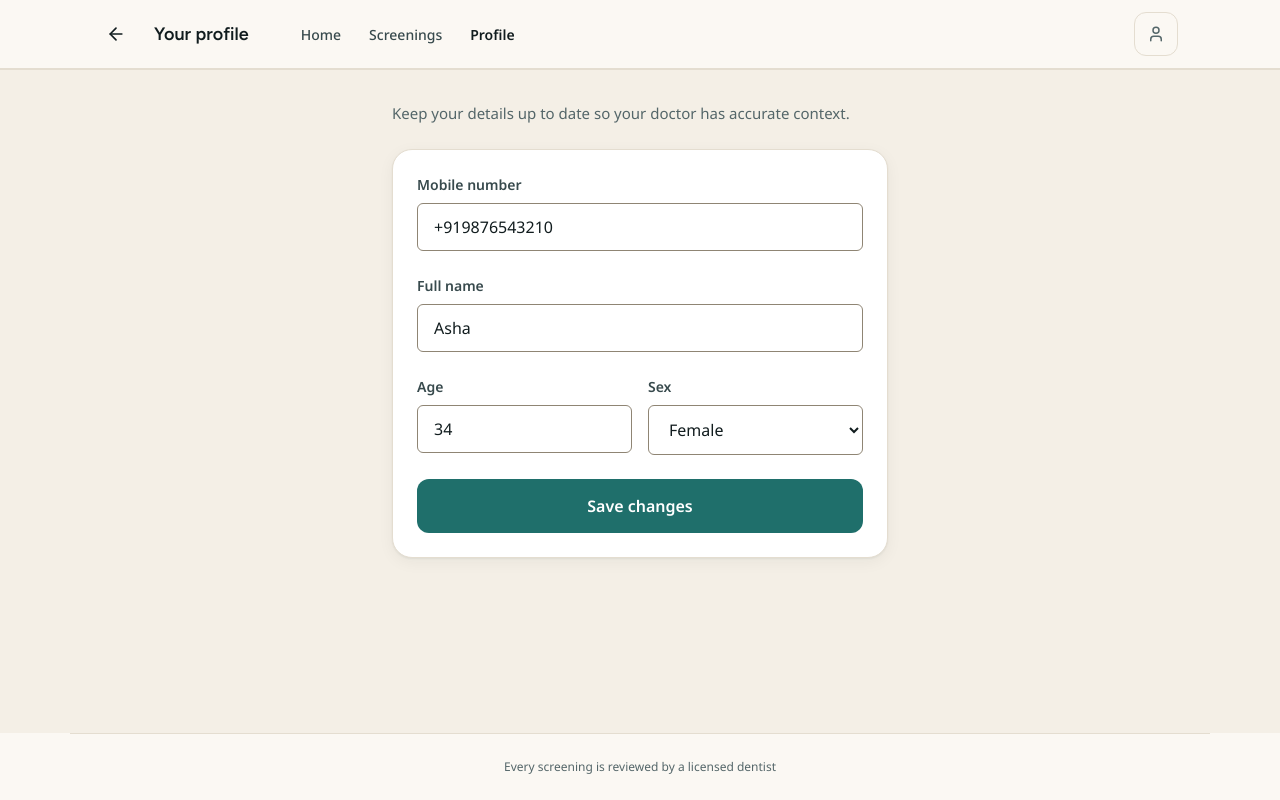
Test: saving › stores the server response and confirms with a toast
The width and height of the screenshot is (1280, 800).
Expected: the field labelled "Full name" is shown, [417,304,863,352]
Click the button "Save changes": x=640, y=506 [417,478,863,532]
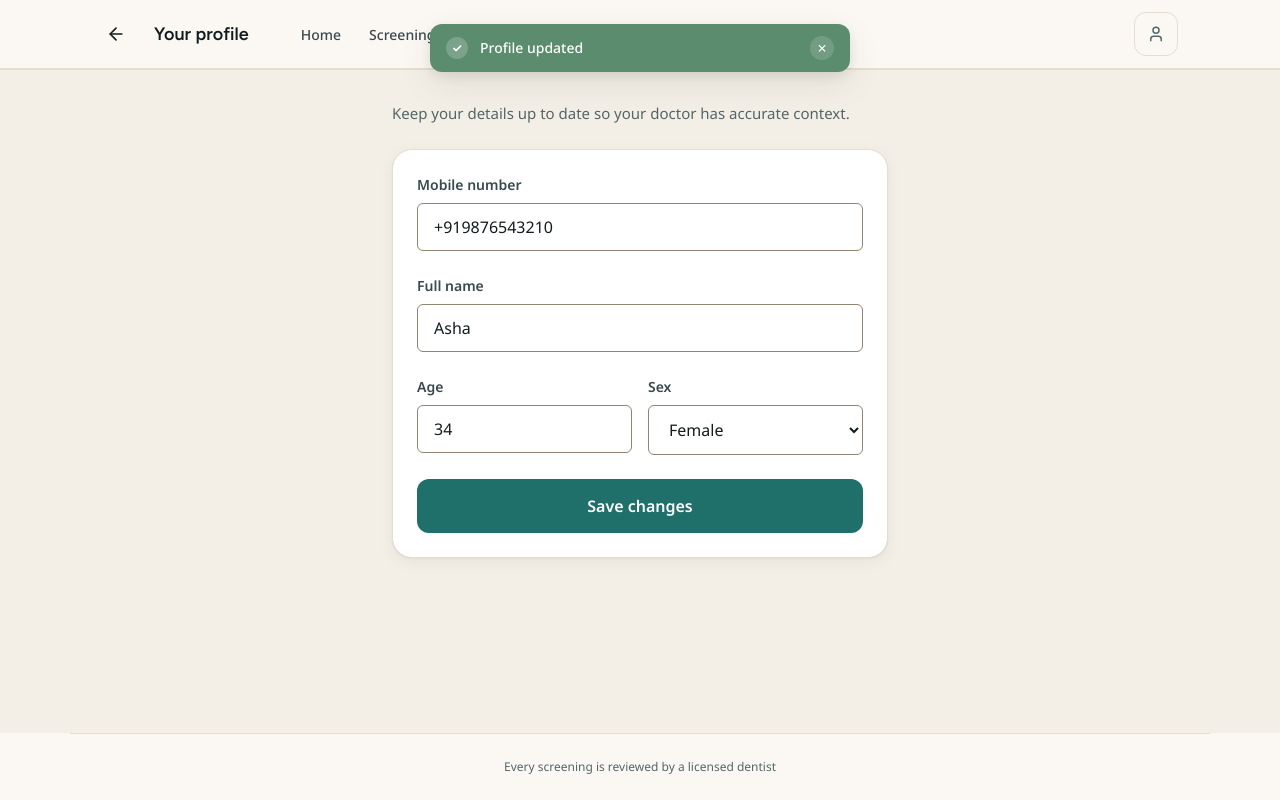
Now the text "Profile updated" is shown, box [480,38,583,57]
